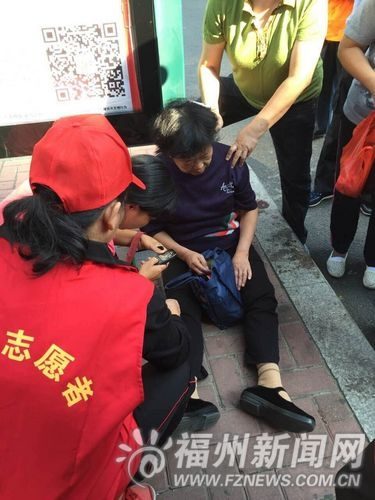falling: (132, 94, 321, 451)
